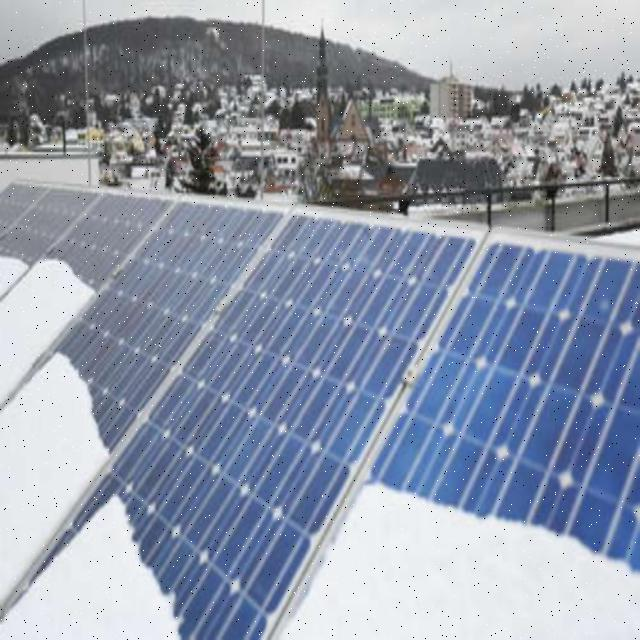snow covered: (11, 191, 632, 640)
